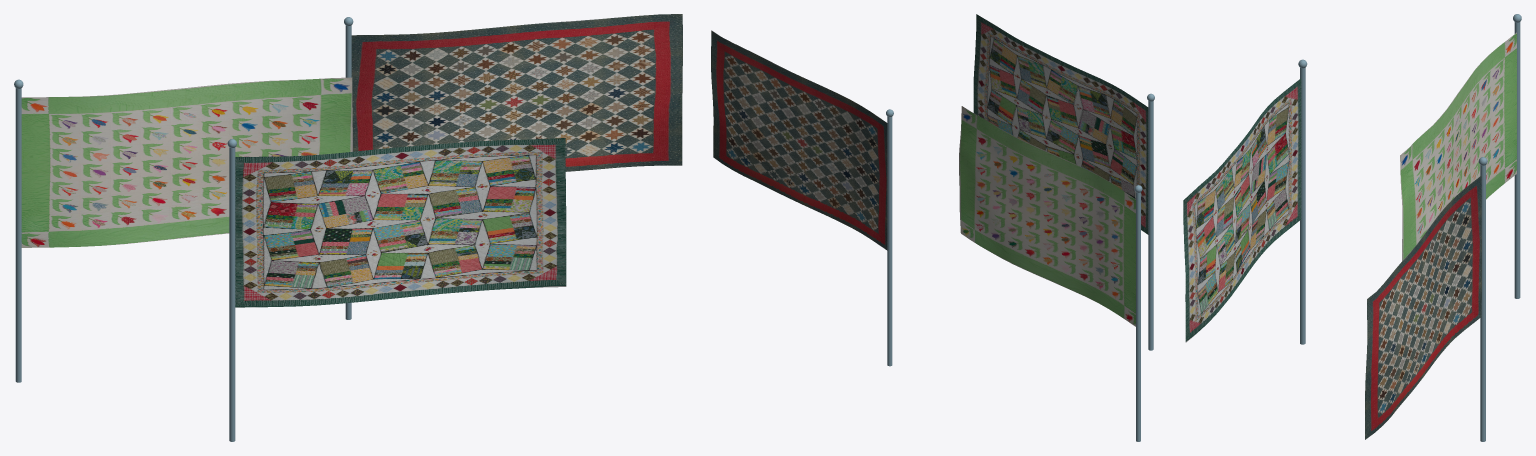
Rendered from three_flags_original_no_anim.glb.
3 renders of one model, left to right at view 1: azimuth 30°, elevation 25°; view 2: azimuth 150°, elevation 25°; view 3: azimuth 270°, elevation 25°, orthographic. The views are drawn at different scales.
Parts seen in each view (by area): view 1: Plane, Plane.002, Plane.001, Cylinder.001, Cylinder; view 2: Plane.001, Plane.002, Plane, Cylinder, Cylinder.002, Cylinder.001; view 3: Plane, Plane.002, Plane.001, Cylinder, Cylinder.001, Cylinder.002.
Part boxes in pixels (<box>): Plane: <box>235,138,566,307</box>; Plane.002: <box>351,14,682,171</box>; Plane.001: <box>21,77,352,247</box>; Cylinder.001: <box>14,79,23,382</box>; Cylinder: <box>227,139,236,441</box>; Plane.001: <box>959,106,1135,326</box>; Plane.002: <box>711,30,887,250</box>; Plane: <box>973,14,1148,234</box>; Cylinder: <box>1147,93,1154,350</box>; Cylinder.002: <box>886,109,893,366</box>; Cylinder.001: <box>1134,185,1142,441</box>; Plane: <box>1183,78,1301,342</box>; Plane.002: <box>1365,175,1481,439</box>; Plane.001: <box>1400,32,1516,260</box>; Cylinder: <box>1298,59,1307,344</box>; Cylinder.001: <box>1513,14,1521,298</box>; Cylinder.002: <box>1478,157,1487,441</box>.
Size of the model in its own units: 8.18 by 4.01 by 4.34.
Materials: 6 (3 with a texture image).
